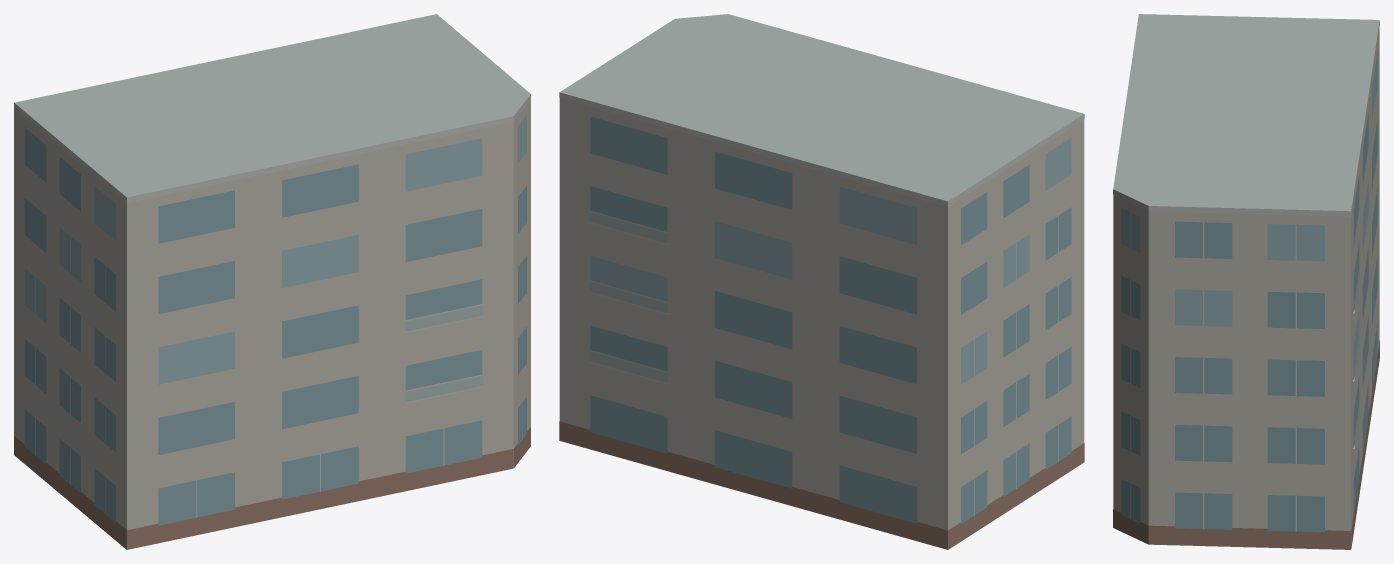
The model's file is survey-upis-32551340.glb.
3 views of the same model, side by side, from view 1: azimuth 30°, elevation 25°; view 2: azimuth 150°, elevation 25°; view 3: azimuth 270°, elevation 25° (orthographic). The views are drawn at different scales.
Parts seen in each view (by area): view 1: survey-upis-32551340.tmp; view 2: survey-upis-32551340.tmp; view 3: survey-upis-32551340.tmp.
Part boxes in pixels (bbox=[...]): survey-upis-32551340.tmp: bbox=[14, 14, 530, 549]; survey-upis-32551340.tmp: bbox=[559, 14, 1084, 549]; survey-upis-32551340.tmp: bbox=[1113, 14, 1379, 549].
Bounding box in the file's own units: 19.05 × 15.25 × 10.89.
